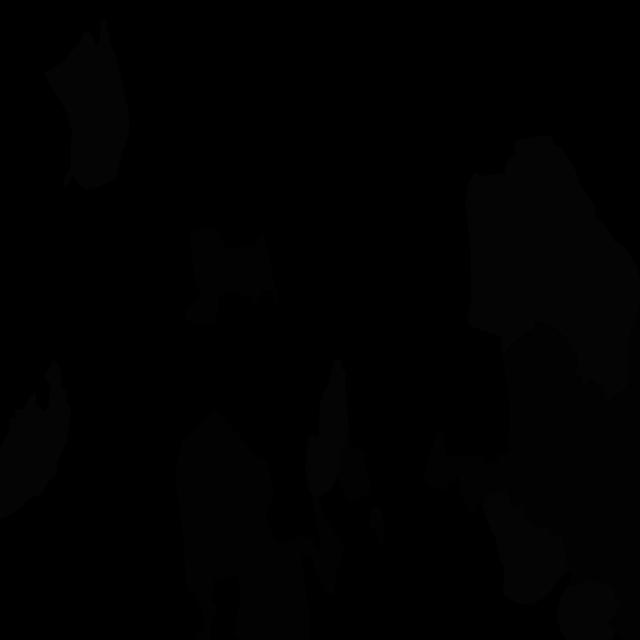cardboard: (423, 305, 640, 640), (174, 409, 310, 640), (184, 227, 280, 326), (309, 496, 344, 595), (337, 437, 371, 503), (369, 506, 386, 545)
soft_plastic: (465, 135, 640, 404), (43, 20, 130, 189), (0, 359, 70, 519), (482, 490, 570, 604), (305, 359, 349, 496), (558, 579, 621, 640)
